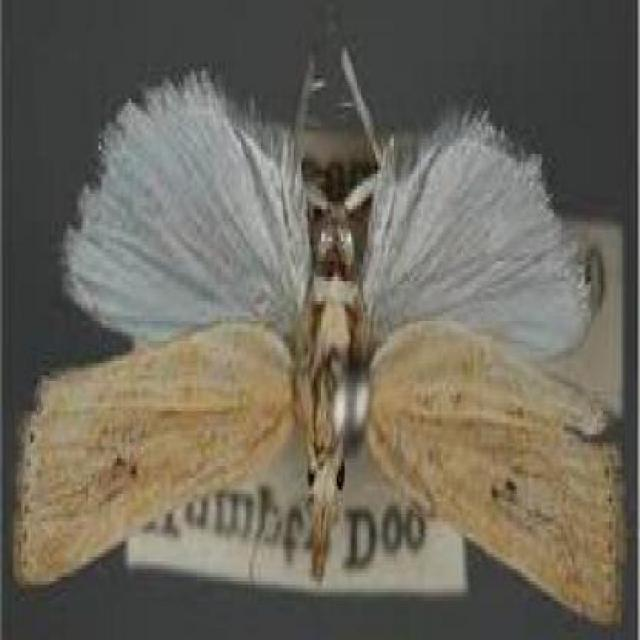stem-borer: (8, 33, 626, 628)
